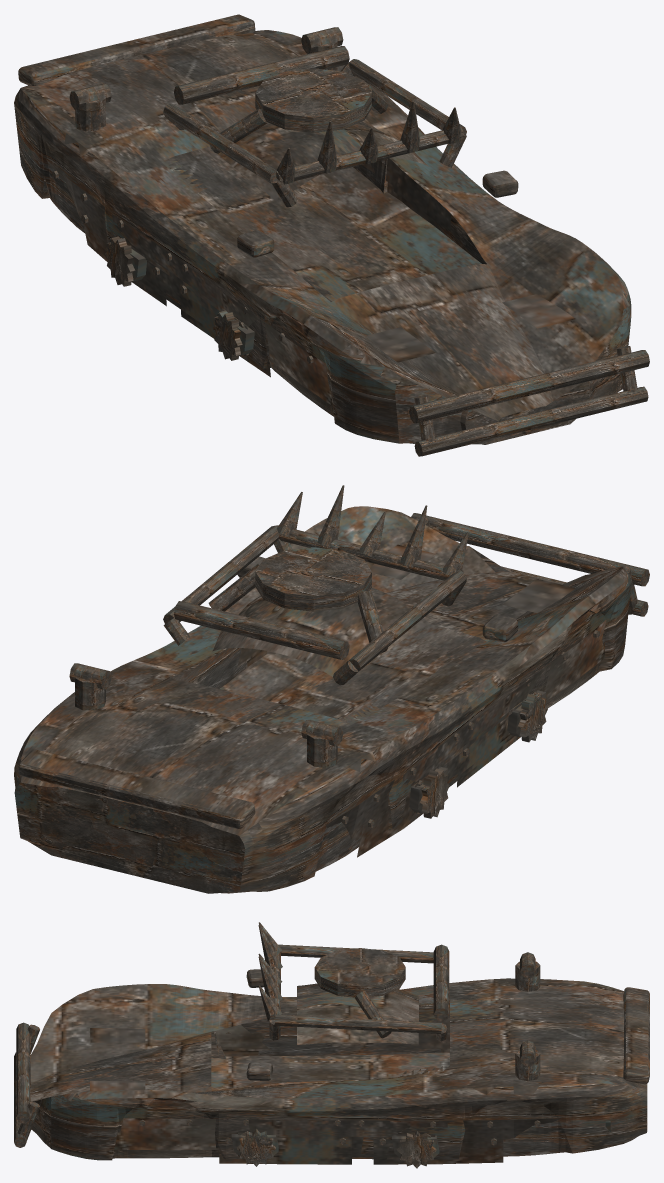
File: ferrari_enzo.glb
3 renders of one model, top to bottom at view 1: azimuth 30°, elevation 25°; view 2: azimuth 150°, elevation 25°; view 3: azimuth 270°, elevation 25°, orthographic. The views are drawn at different scales.
Visible parts, largest first — view 1: kit-full-plating-painted-metal, kit-bull-bar-painted-metal, kit-turret-mount-painted-metal, kit-cage-painted-metal, kit-scrapper-painted-metal, warlord-crossbar, kit-raider-painted-metal, kit-crown-painted-metal, kit-plate-2-painted-metal, kit-stack-0-painted-metal, kit-saw-1-guard-painted-metal, kit-saw-0-guard-painted-metal (+2 smaller); view 2: kit-full-plating-painted-metal, kit-turret-mount-painted-metal, kit-cage-painted-metal, kit-bull-bar-painted-metal, warlord-crossbar, kit-scrapper-painted-metal, kit-crown-painted-metal, kit-raider-painted-metal, kit-plate-2-painted-metal, kit-stack-0-painted-metal, kit-stack-1-painted-metal, kit-saw-1-guard-painted-metal (+2 smaller); view 3: kit-full-plating-painted-metal, kit-raider-painted-metal, kit-turret-mount-painted-metal, kit-cage-painted-metal, kit-scrapper-painted-metal, kit-plate-0-painted-metal, kit-bull-bar-painted-metal, kit-crown-painted-metal, kit-plate-1-painted-metal, kit-saw-0-painted-metal, warlord-crossbar, kit-saw-1-painted-metal (+2 smaller).
Part boxes in pixels (x1,y1,x2,y2): kit-full-plating-painted-metal: (14, 14, 631, 444); kit-bull-bar-painted-metal: (409, 346, 649, 456); kit-turret-mount-painted-metal: (209, 68, 387, 153); kit-cage-painted-metal: (163, 59, 466, 207); kit-scrapper-painted-metal: (112, 170, 450, 326); warlord-crossbar: (174, 46, 349, 104); kit-raider-painted-metal: (81, 168, 434, 377); kit-crown-painted-metal: (276, 100, 461, 184); kit-plate-2-painted-metal: (247, 309, 332, 406); kit-stack-0-painted-metal: (69, 83, 111, 131); kit-saw-1-guard-painted-metal: (212, 310, 254, 360); kit-saw-0-guard-painted-metal: (105, 236, 146, 286); kit-full-plating-painted-metal: (14, 506, 631, 893); kit-turret-mount-painted-metal: (208, 547, 387, 653); kit-cage-painted-metal: (163, 525, 466, 685); kit-bull-bar-painted-metal: (411, 513, 649, 616); warlord-crossbar: (174, 601, 349, 659); kit-scrapper-painted-metal: (237, 648, 538, 782); kit-crown-painted-metal: (277, 485, 468, 575); kit-raider-painted-metal: (247, 650, 520, 857); kit-plate-2-painted-metal: (533, 620, 606, 701); kit-stack-0-painted-metal: (301, 720, 343, 767); kit-stack-1-painted-metal: (69, 663, 111, 710); kit-saw-1-guard-painted-metal: (507, 690, 547, 742); kit-full-plating-painted-metal: (30, 969, 649, 1160); kit-raider-painted-metal: (219, 1031, 503, 1164); kit-turret-mount-painted-metal: (314, 948, 405, 1038); kit-cage-painted-metal: (269, 944, 447, 1041); kit-scrapper-painted-metal: (231, 1019, 447, 1153); kit-plate-0-painted-metal: (114, 1118, 218, 1150); kit-bull-bar-painted-metal: (14, 1022, 40, 1147); kit-crown-painted-metal: (258, 922, 282, 1020); kit-plate-1-painted-metal: (439, 1118, 560, 1139); kit-saw-0-painted-metal: (392, 1131, 439, 1168); warlord-crossbar: (433, 944, 449, 1021); kit-saw-1-painted-metal: (231, 1129, 278, 1166).
Size of the model in its own units: 2.2 by 1.45 by 4.84.
1 material, 1 textured.
